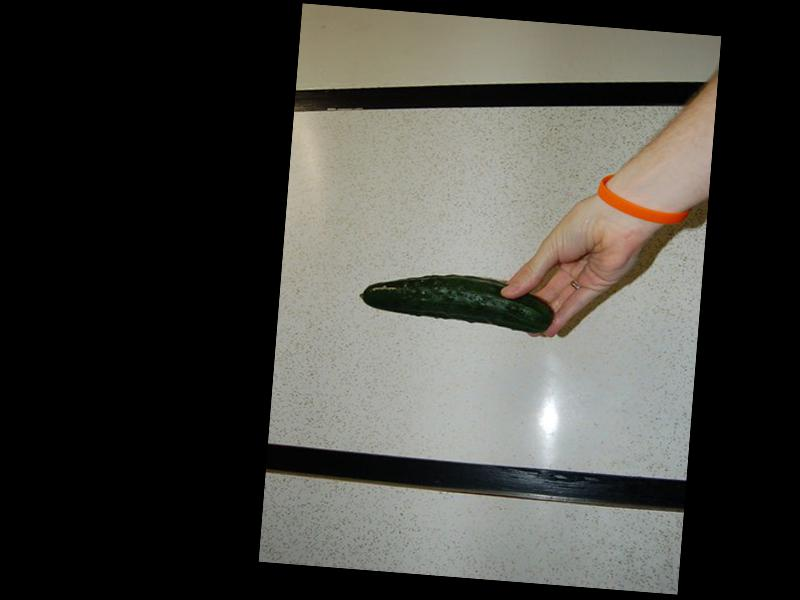Cucumber: (356, 269, 556, 335)
